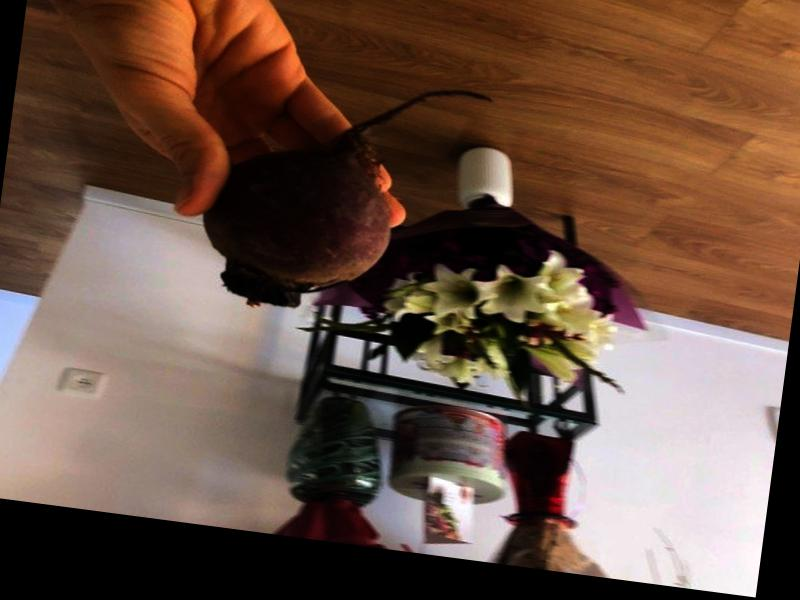Beet: (194, 60, 497, 332)
